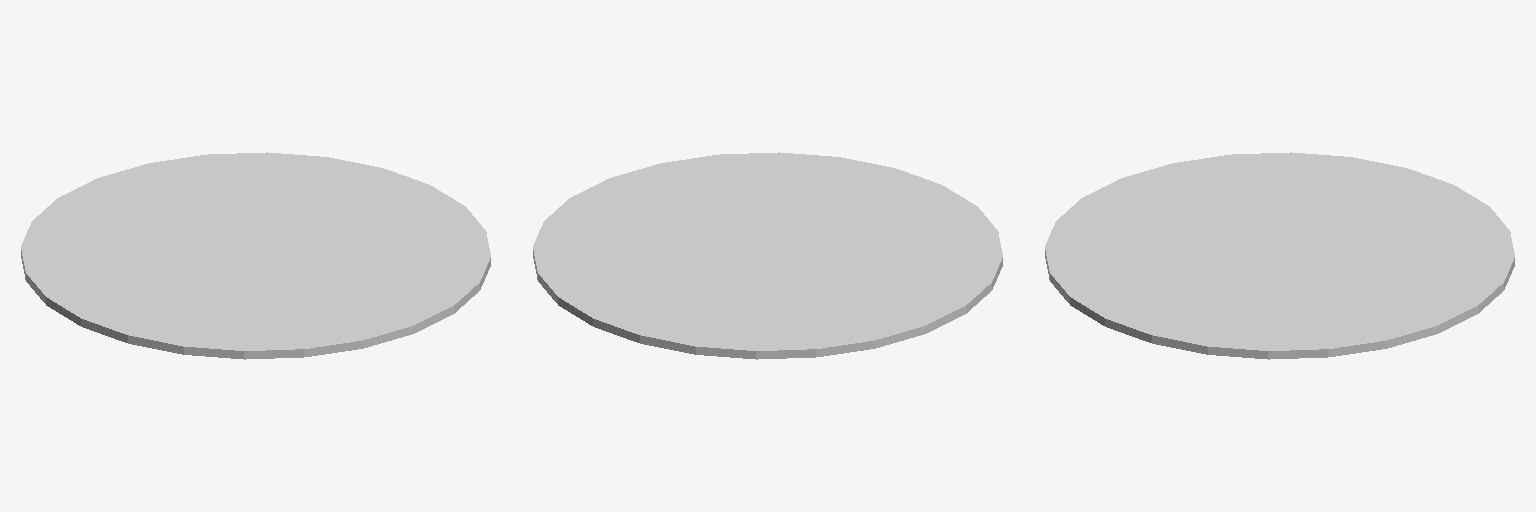
The model's file is original-8.obj.
3 renders of one model, left to right at view 1: azimuth 30°, elevation 25°; view 2: azimuth 150°, elevation 25°; view 3: azimuth 270°, elevation 25°, orthographic.
Parts seen in each view (by area): view 1: group_4/ID52#ID52; view 2: group_4/ID52#ID52; view 3: group_4/ID52#ID52.
Part boxes in pixels (x1,y1,x2,y2): group_4/ID52#ID52: (21,152,490,359); group_4/ID52#ID52: (533,152,1002,359); group_4/ID52#ID52: (1045,152,1514,359).
Size of the model in its own units: 1.17 by 0.0229 by 1.17.